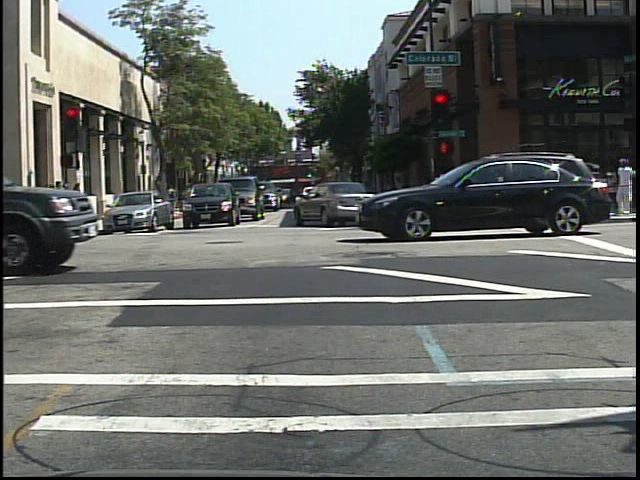person: (615, 151, 638, 220), (162, 180, 181, 220)
